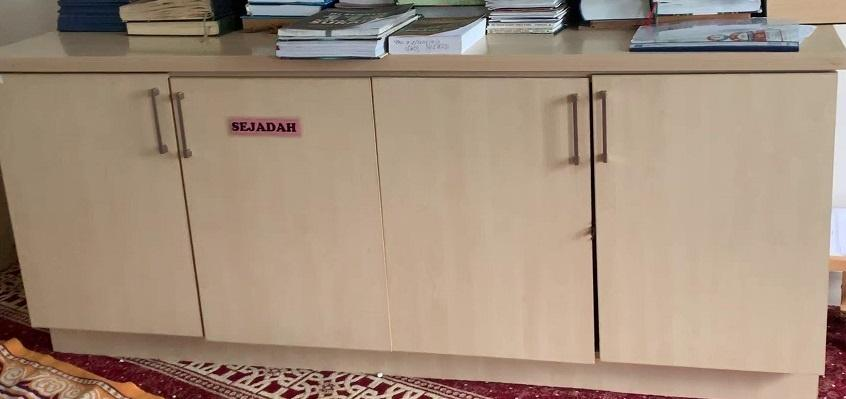cabinet_door: (602, 81, 835, 370), (392, 84, 600, 360), (180, 78, 373, 344), (0, 76, 178, 329)
handle: (138, 87, 171, 156), (556, 93, 587, 165), (590, 91, 620, 162), (169, 89, 200, 156)
